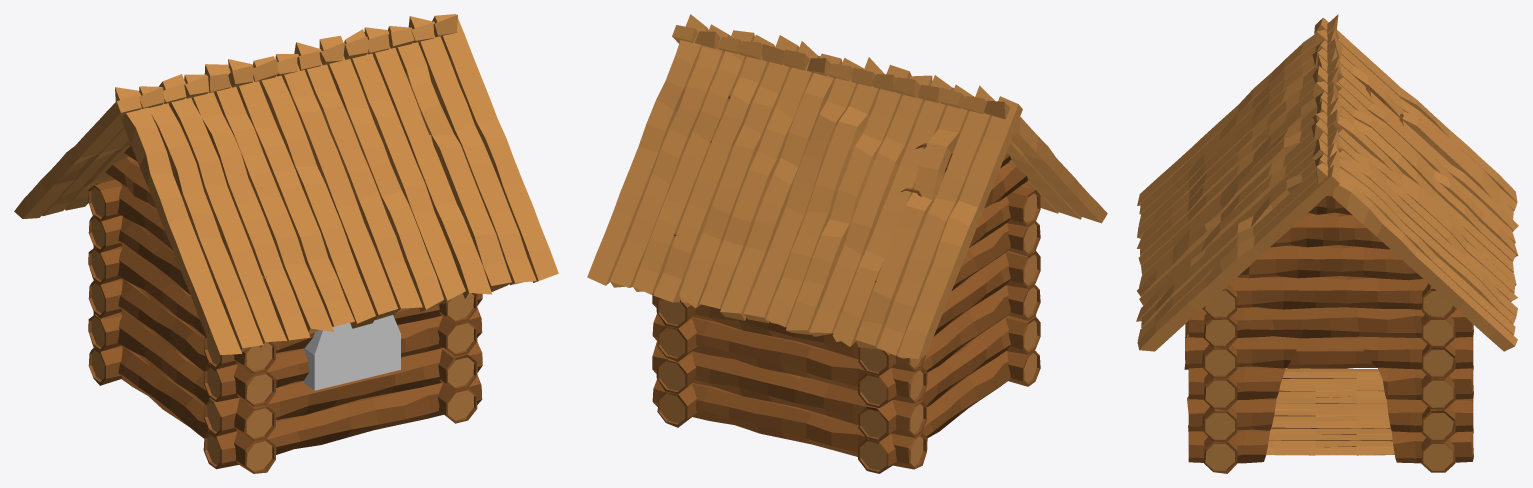
Rendered from House.fbx.
The picture shows the model from 3 angles, left to right: view 1: azimuth 30°, elevation 25°; view 2: azimuth 150°, elevation 25°; view 3: azimuth 270°, elevation 25°; orthographic projection. The views are drawn at different scales.
Visible parts, largest first — view 1: Cube.001, Cube.002, Cylinder.018, Cylinder.019, differe, Cylinder.013, Cylinder.012, Cylinder.014, Cylinder.020, Cylinder.015, Cylinder.016, Cylinder.021 (+12 smaller); view 2: Cube.002, Cube.001, Cylinder.006, Cylinder.008, Cylinder.007, Cylinder.013, Cylinder.012, Cylinder.014, Cylinder.015, Cylinder.009, Cylinder.016, Cylinder (+11 smaller); view 3: Cube.001, Cube.002, Plane, Cylinder.004, Cylinder.005, Cylinder.003, Cylinder.024, Cylinder.002, Cylinder.001, Cylinder, Cylinder.025, Cylinder.012 (+13 smaller).
Part boxes in pixels (left/top/right/bottom): Cube.001: left=115, top=14, right=558, bottom=356; Cube.002: left=14, top=15, right=457, bottom=218; Cylinder.018: left=203, top=375, right=482, bottom=469; Cylinder.019: left=204, top=342, right=482, bottom=436; differe: left=303, top=315, right=400, bottom=390; Cylinder.013: left=93, top=312, right=275, bottom=441; Cylinder.012: left=118, top=345, right=276, bottom=473; Cylinder.014: left=118, top=278, right=276, bottom=406; Cylinder.020: left=203, top=308, right=482, bottom=401; Cylinder.015: left=93, top=246, right=275, bottom=374; Cylinder.016: left=118, top=216, right=190, bottom=294; Cylinder.021: left=204, top=293, right=482, bottom=369; Cube.002: left=587, top=14, right=1022, bottom=359; Cube.001: left=672, top=25, right=1107, bottom=223; Cylinder.006: left=652, top=379, right=927, bottom=469; Cylinder.008: left=652, top=313, right=927, bottom=403; Cylinder.007: left=652, top=341, right=926, bottom=437; Cylinder.013: left=858, top=315, right=1035, bottom=441; Cylinder.012: left=858, top=351, right=1010, bottom=473; Cylinder.014: left=858, top=285, right=1010, bottom=407; Cylinder.015: left=858, top=250, right=1035, bottom=375; Cylinder.009: left=652, top=293, right=926, bottom=371; Cylinder.016: left=952, top=223, right=1010, bottom=290; Cylinder: left=657, top=384, right=697, bottom=427; Cube.001: left=1136, top=14, right=1343, bottom=351; Cube.002: left=1311, top=17, right=1518, bottom=351; Plane: left=1266, top=368, right=1394, bottom=455; Cylinder.004: left=1188, top=307, right=1473, bottom=338; Cylinder.005: left=1202, top=274, right=1473, bottom=309; Cylinder.003: left=1187, top=333, right=1473, bottom=369; Cylinder.024: left=1237, top=245, right=1422, bottom=280; Cylinder.002: left=1188, top=361, right=1473, bottom=399; Cylinder.001: left=1187, top=396, right=1473, bottom=432; Cylinder: left=1188, top=425, right=1473, bottom=463; Cylinder.025: left=1270, top=210, right=1402, bottom=249; Cylinder.012: left=1184, top=337, right=1377, bottom=369.
Bounding box in the file's own units: 2036 × 1937 × 2076.
